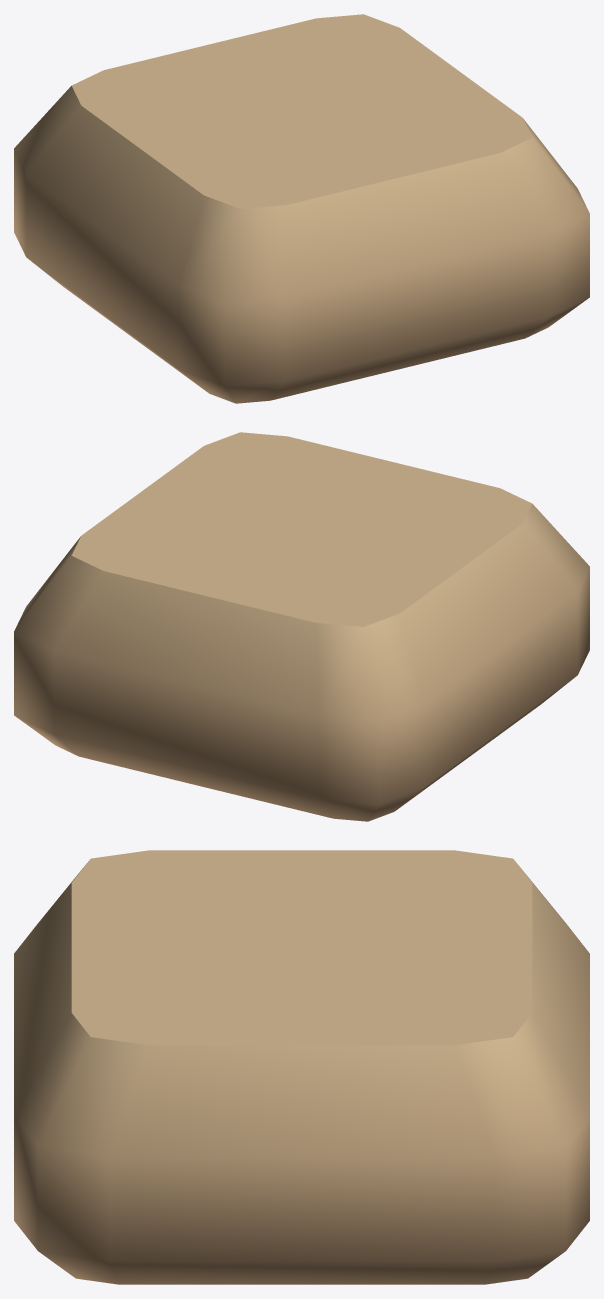
File: pillow-square-laying.glb
The picture shows the model from 3 angles, top to bottom: view 1: azimuth 30°, elevation 25°; view 2: azimuth 150°, elevation 25°; view 3: azimuth 270°, elevation 25°; orthographic projection. The views are drawn at different scales.
Parts seen in each view (by area): view 1: pillow-square-laying; view 2: pillow-square-laying; view 3: pillow-square-laying.
Part boxes in pixels (x1,y1,x2,y2): pillow-square-laying: [14, 14, 589, 403]; pillow-square-laying: [14, 432, 589, 821]; pillow-square-laying: [14, 850, 589, 1284].
Bounding box in the file's own units: 0.3 × 0.1352 × 0.3.
